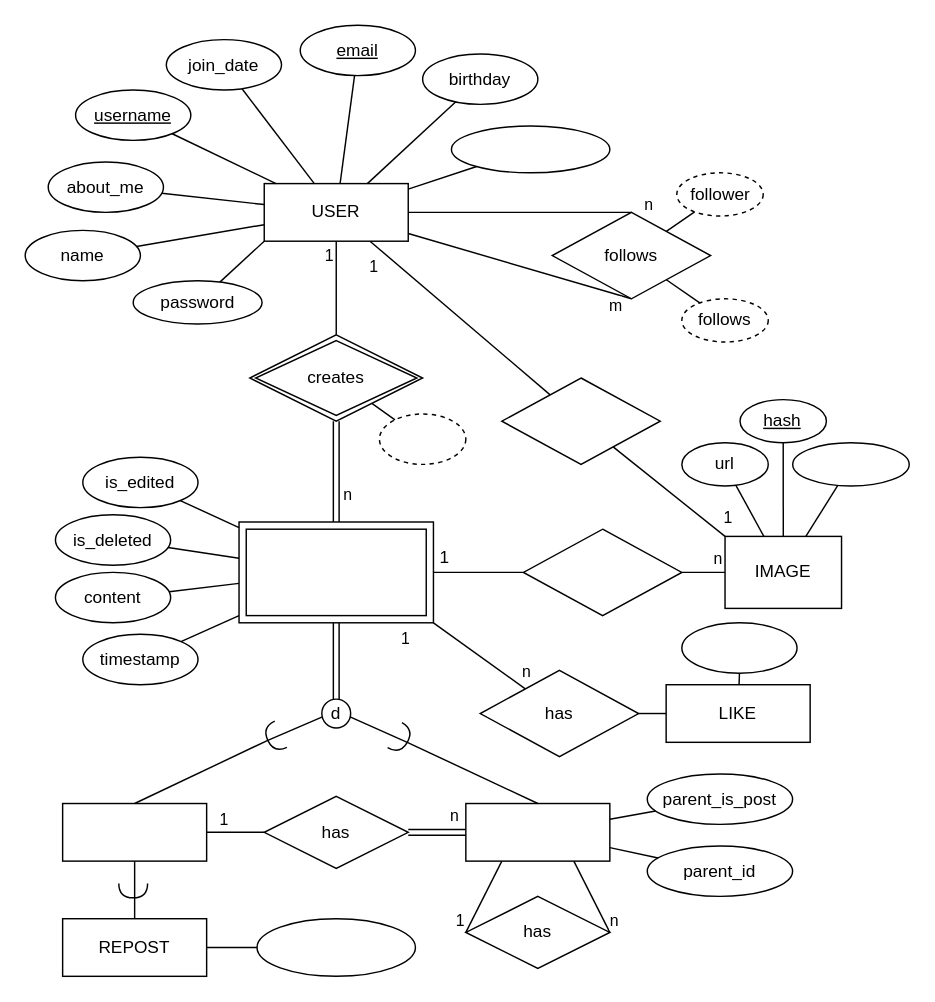
Image size: 935x1002. Some labels were removed from this diagram. Each missing label, with the centre of its shape:
"author" belongs at point (422, 438).
"COMMENT" belongs at point (537, 831).
"has_attachment" belongs at point (602, 572).
"has_pfp" belongs at point (580, 420).
"last_time_posted" belongs at point (530, 149).
"original_post" belongs at point (335, 946).
"POST" belongs at point (134, 831).
"THREAD_ITEM" belongs at point (335, 572).
"usageCount" belongs at point (850, 463).
"user_id" belongs at point (738, 647).
